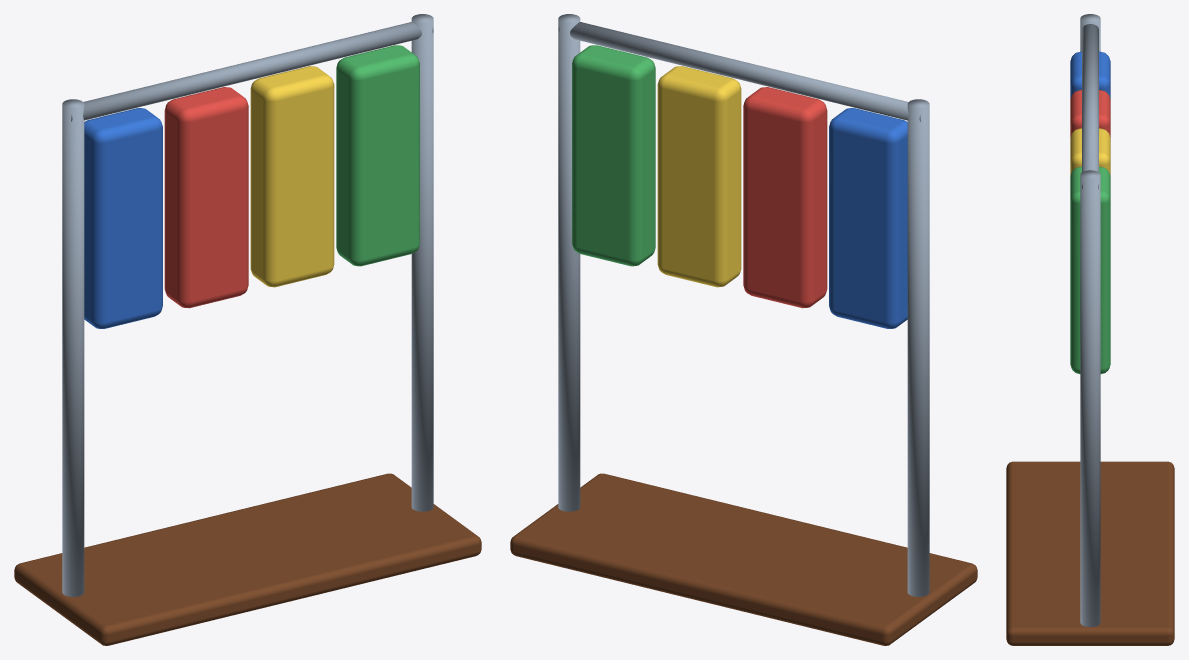
File: rack.glb
3 renders of one model, left to right at view 1: azimuth 30°, elevation 25°; view 2: azimuth 150°, elevation 25°; view 3: azimuth 270°, elevation 25°, orthographic. The views are drawn at different scales.
Visible parts, largest first — view 1: rack; view 2: rack; view 3: rack.
Part boxes in pixels (x1,y1,x2,y2): rack: (14, 14, 481, 645); rack: (510, 14, 977, 645); rack: (1006, 14, 1174, 645).
Size of the model in its own units: 1.2 by 1.53 by 0.5.
